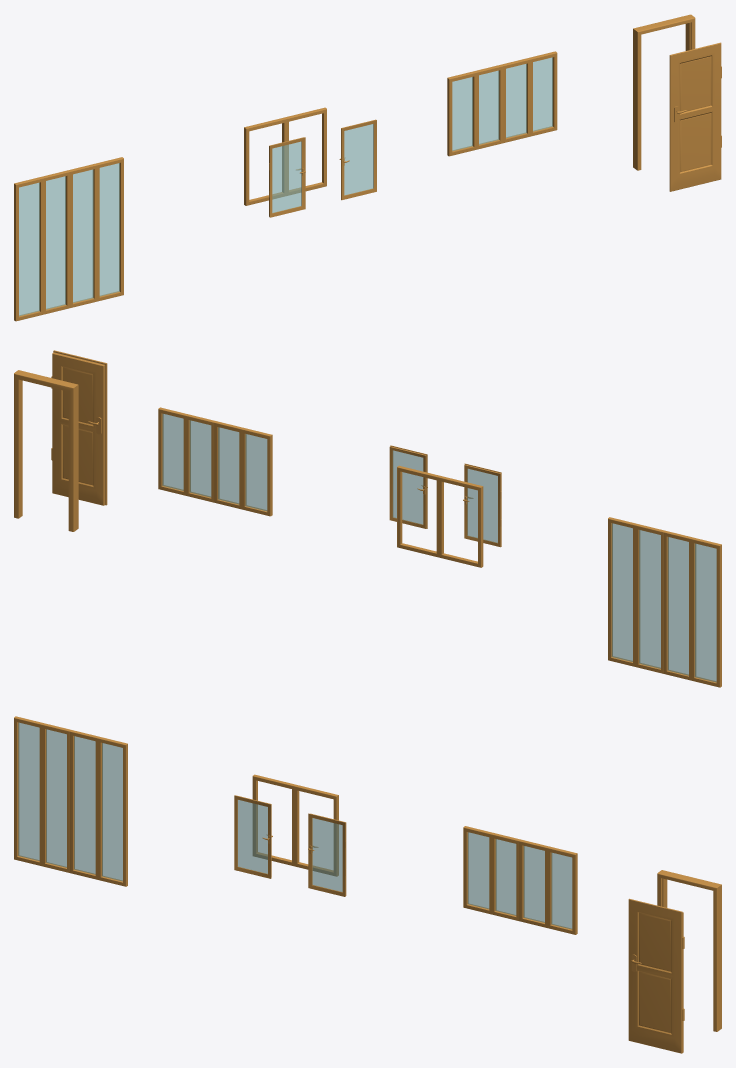
The model's file is WindowstoPaint.fbx.
3 views of the same model, one above another, from view 1: azimuth 30°, elevation 25°; view 2: azimuth 150°, elevation 25°; view 3: azimuth 330°, elevation 25° (orthographic). The views are drawn at different scales.
Visible parts, largest first — view 1: WindowTall_01, WindowBand_01, DoorWing, Window_01, Door_01, Glass_L, Glass_R, WindowWing_L, WindowWing_R; view 2: WindowTall_01, WindowBand_01, DoorWing, Door_01, Window_01, Glass_L, Glass_R, WindowWing_R, WindowWing_L; view 3: WindowTall_01, WindowBand_01, DoorWing, Window_01, Door_01, Glass_R, Glass_L, WindowWing_R, WindowWing_L.
Boxes of the visible parts, x1,y1,x2,y2 form: WindowTall_01: (14,157,123,321); WindowBand_01: (447,51,557,156); DoorWing: (669,42,721,191); Window_01: (244,107,326,205); Door_01: (633,14,695,170); Glass_L: (272,141,301,212); Glass_R: (344,124,373,195); WindowWing_L: (269,137,305,217); WindowWing_R: (341,119,376,200); WindowTall_01: (608,517,721,687); WindowBand_01: (158,407,272,516); DoorWing: (51,350,107,505); Door_01: (14,370,78,531); Window_01: (397,465,483,567); Glass_L: (467,469,497,542); Glass_R: (393,450,423,524); WindowWing_R: (389,445,427,528); WindowWing_L: (464,463,501,547); WindowTall_01: (14,716,127,886); WindowBand_01: (463,826,577,934); DoorWing: (628,898,684,1053); Window_01: (252,774,338,876); Door_01: (657,870,721,1031); Glass_R: (312,818,342,891); Glass_L: (238,800,267,873); WindowWing_R: (308,813,346,896); WindowWing_L: (234,795,271,878).
Bounding box in the file's own units: 1253 × 245 × 120.
